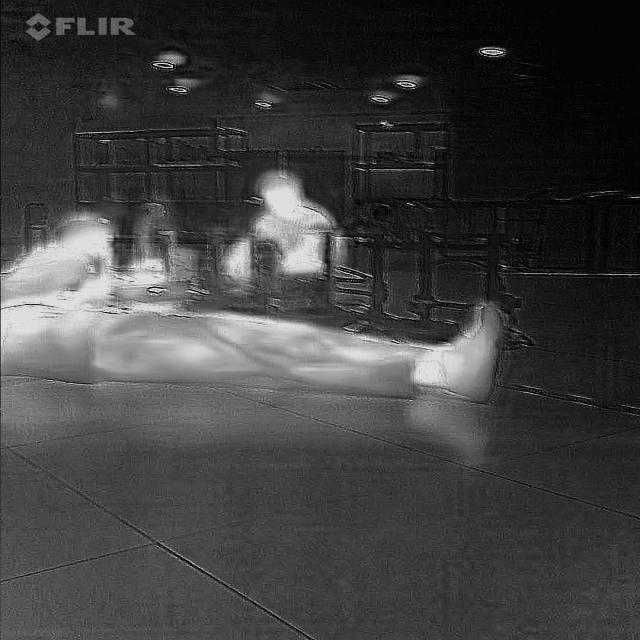Victim: (0, 304, 503, 404), (212, 164, 351, 288), (0, 216, 121, 302)
